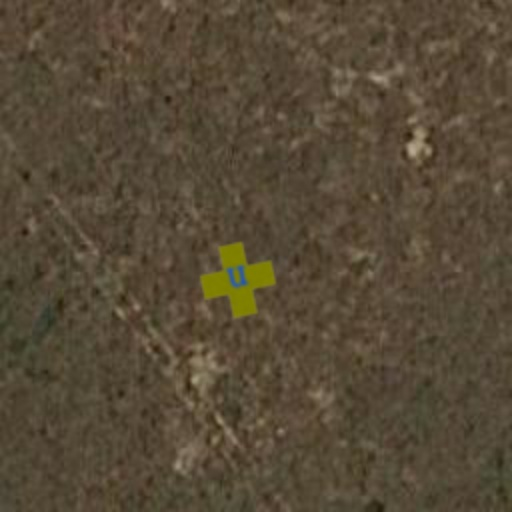cross: (194, 236, 282, 324)
